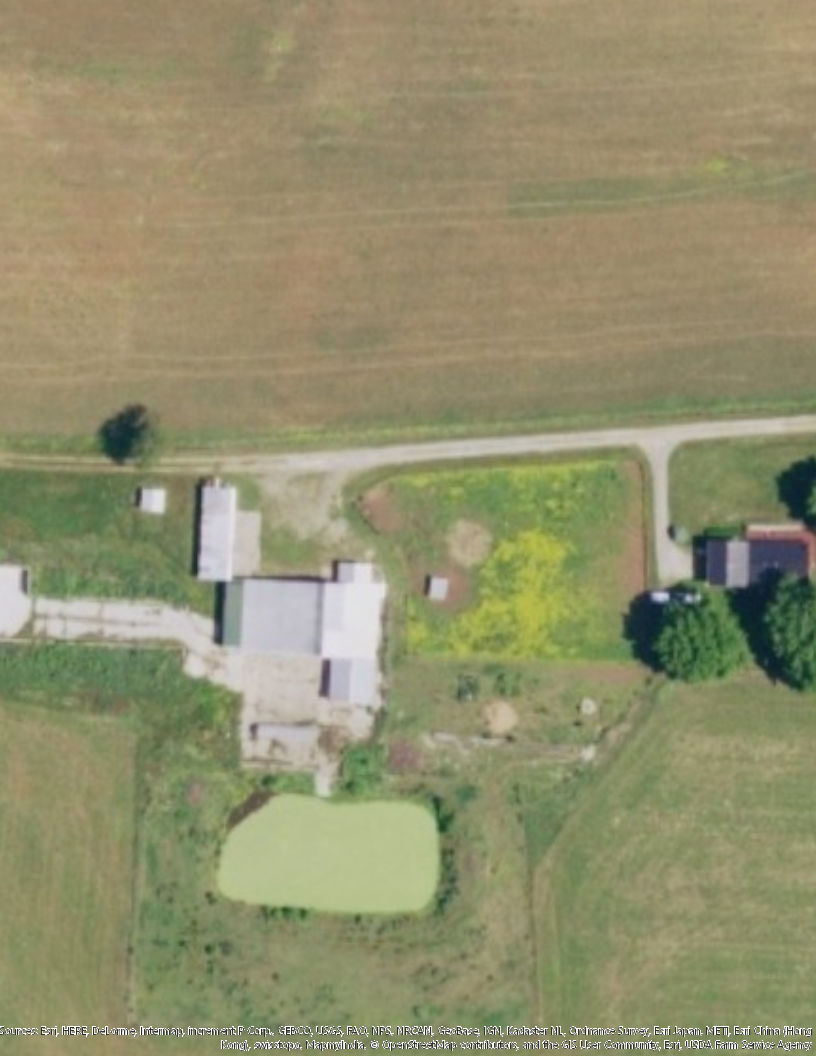cafo: (187, 475, 392, 708)
